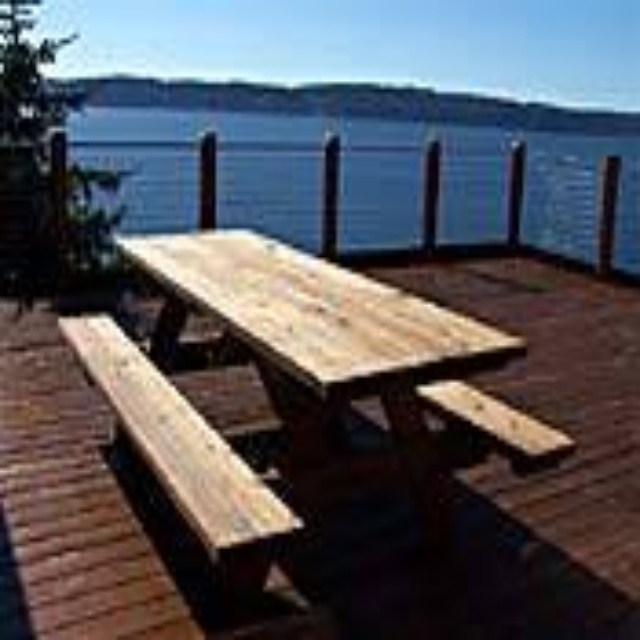obstacle: (59, 200, 574, 625)
